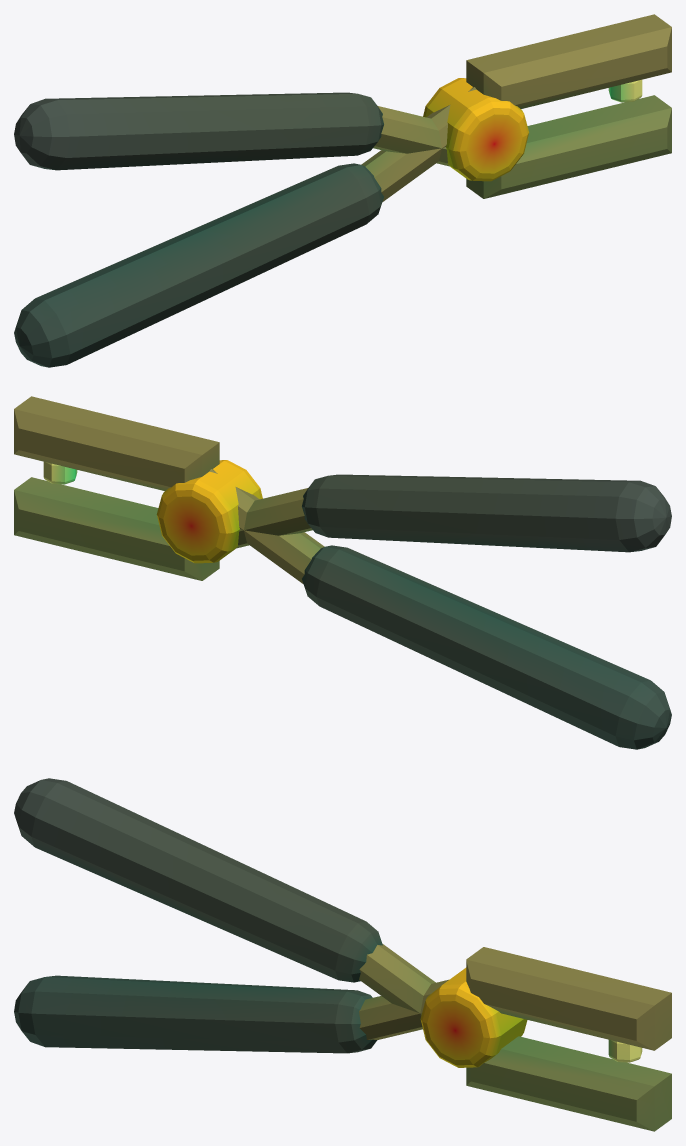
Rendered from Prop_TicketPunch.fbx.
3 renders of one model, top to bottom at view 1: azimuth 30°, elevation 25°; view 2: azimuth 150°, elevation 25°; view 3: azimuth 330°, elevation 25°, orthographic.
Parts seen in each view (by area): view 1: Punch_Lower, Punch_Upper, Prop_TicketPunch; view 2: Punch_Lower, Punch_Upper, Prop_TicketPunch; view 3: Punch_Upper, Punch_Lower, Prop_TicketPunch.
Boxes of the visible parts, x1,y1,x2,y2 form: Punch_Lower: (14, 14, 671, 367); Punch_Upper: (14, 92, 671, 198); Prop_TicketPunch: (423, 78, 642, 181); Punch_Lower: (14, 396, 671, 749); Punch_Upper: (14, 474, 671, 580); Prop_TicketPunch: (43, 460, 262, 563); Punch_Upper: (14, 778, 671, 1131); Punch_Lower: (14, 947, 671, 1053); Prop_TicketPunch: (420, 967, 642, 1067).
Size of the model in its own units: 0.3417 by 0.1333 by 0.036.
